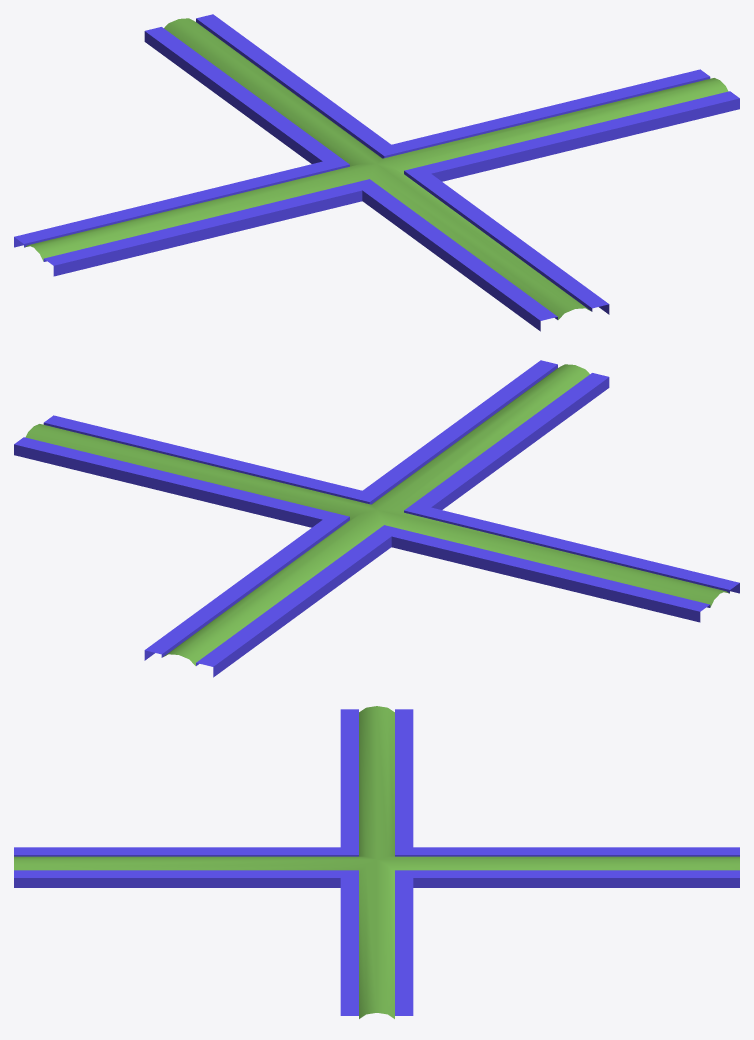
Rendered from PowerCable_3Way_01.FBX.
The picture shows the model from 3 angles, top to bottom: view 1: azimuth 30°, elevation 25°; view 2: azimuth 150°, elevation 25°; view 3: azimuth 270°, elevation 25°; orthographic projection. The views are drawn at different scales.
Visible parts, largest first — view 1: PowerCable_4Way_01; view 2: PowerCable_4Way_01; view 3: PowerCable_4Way_01.
Boxes of the visible parts, <box> form: PowerCable_4Way_01: <box>14,14,739,331</box>; PowerCable_4Way_01: <box>14,360,739,677</box>; PowerCable_4Way_01: <box>14,706,739,1018</box>.
Bounding box in the file's own units: 2 × 0.04 × 2.
